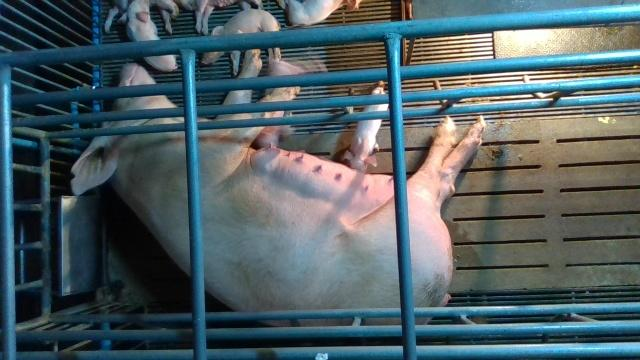piglet: (253, 61, 329, 148), (202, 10, 282, 74), (117, 0, 178, 71), (341, 82, 389, 172), (274, 0, 362, 28)
sow-sleep-lactate: (72, 63, 486, 327)
